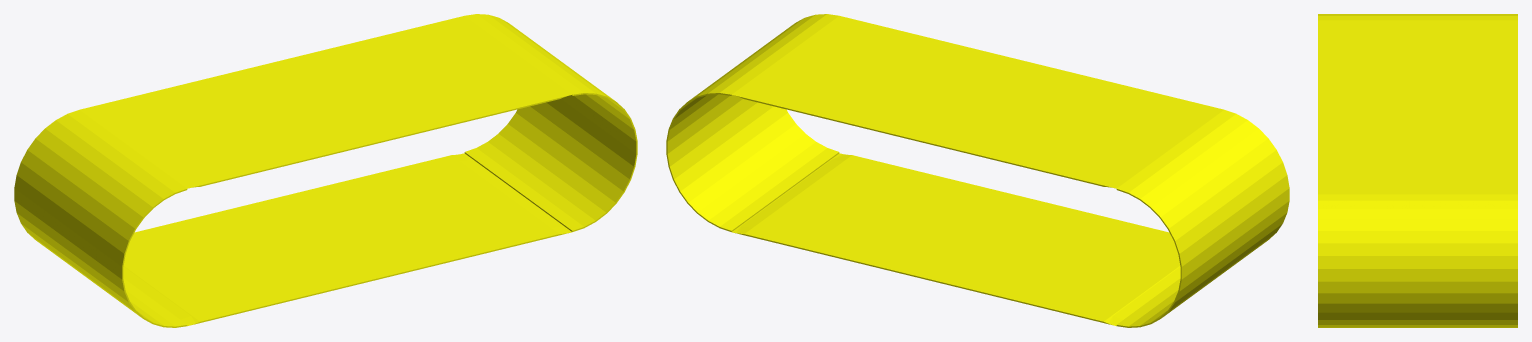
The model's file is crawler_y.dae.
The picture shows the model from 3 angles, left to right: view 1: azimuth 30°, elevation 25°; view 2: azimuth 150°, elevation 25°; view 3: azimuth 270°, elevation 25°; orthographic projection. The views are drawn at different scales.
Visible parts, largest first — view 1: Crawler; view 2: Crawler; view 3: Crawler.
Part boxes in pixels (bbox=[...]): Crawler: bbox=[14, 14, 637, 327]; Crawler: bbox=[666, 14, 1289, 327]; Crawler: bbox=[1318, 14, 1517, 327].
Bounding box in the file's own units: 0.4 × 0.145 × 0.102.
